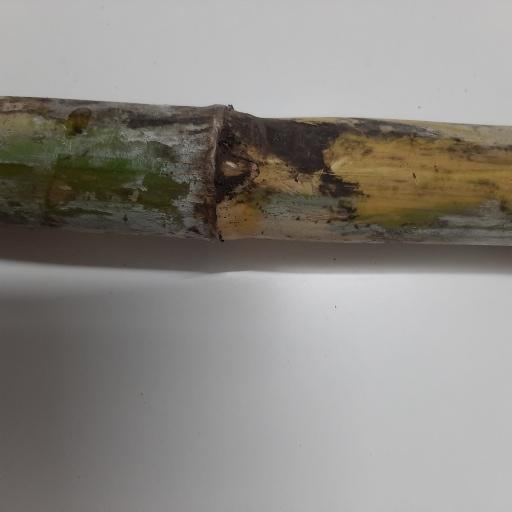Bud: (216, 153, 251, 184)
